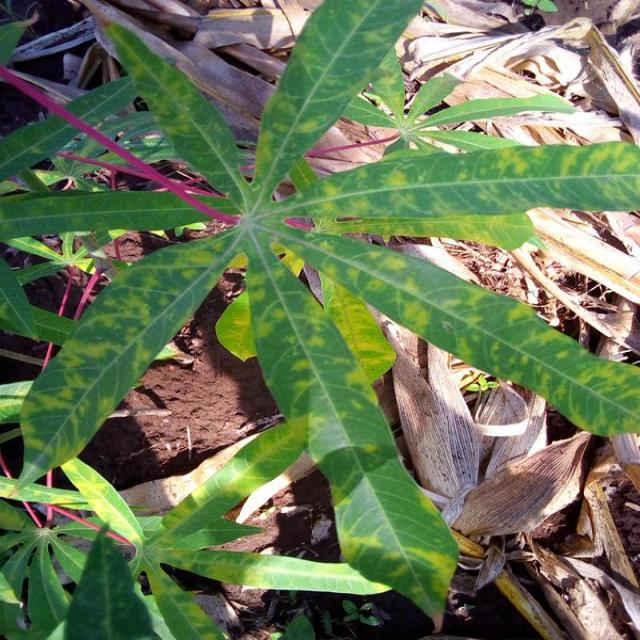cassava leaf: (2, 0, 637, 630), (14, 224, 242, 495)
